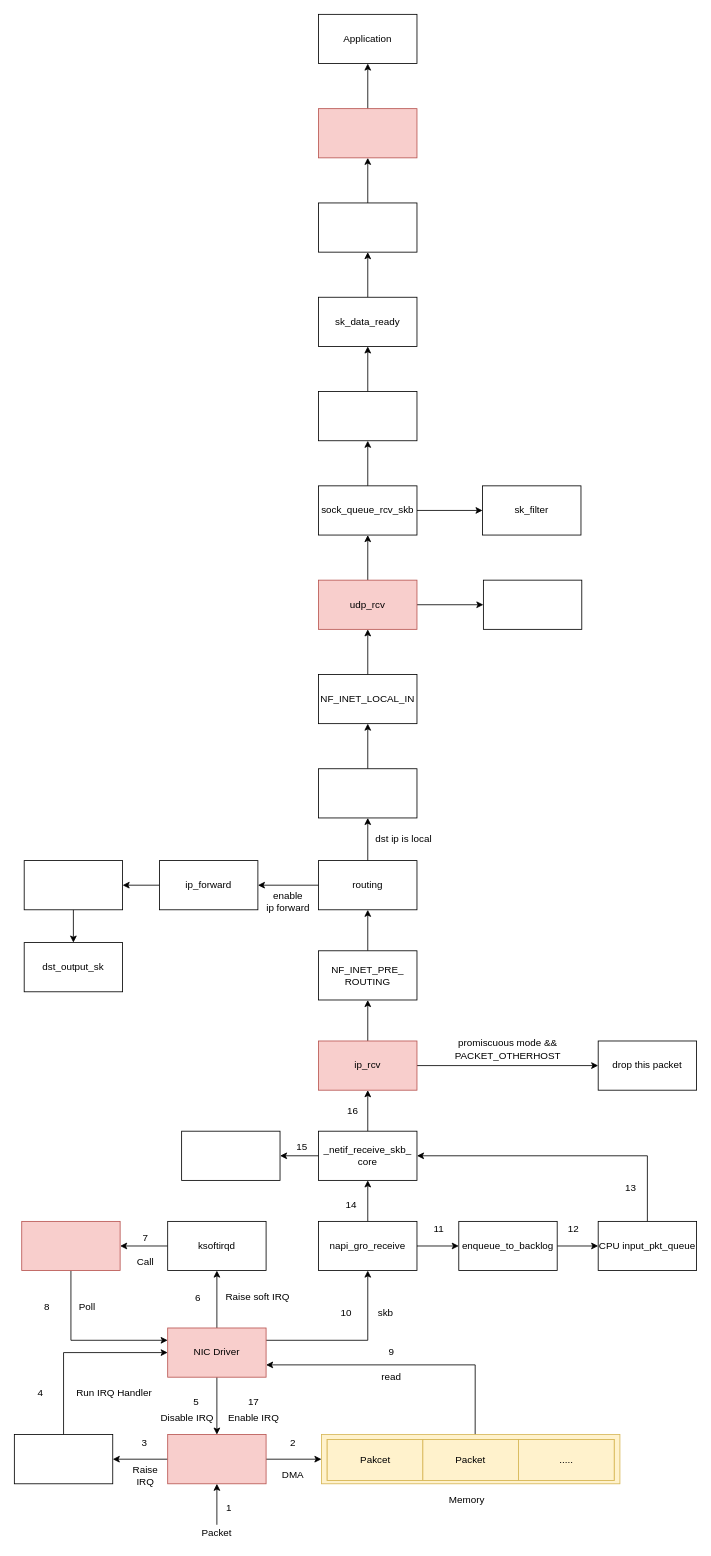
Some shapes in this 711 by 1556 pixel diagram are drawn without their labels. The centre of each missing label's shape, as x and y in pixels:
__skb_queue_tail: the point at 367,416
__udp4_lib_lookup_ skb: the point at 532,604
CPU: the point at 63,1459
ip_local_deliver: the point at 367,793
net_rx_action: the point at 70,1246
NF_INET_FORWARD: the point at 73,885
NIC: the point at 216,1459
packet taps (AF_PACKET): the point at 230,1155
recvfrom (select/poll/epoll): the point at 367,227
socket: the point at 367,133
